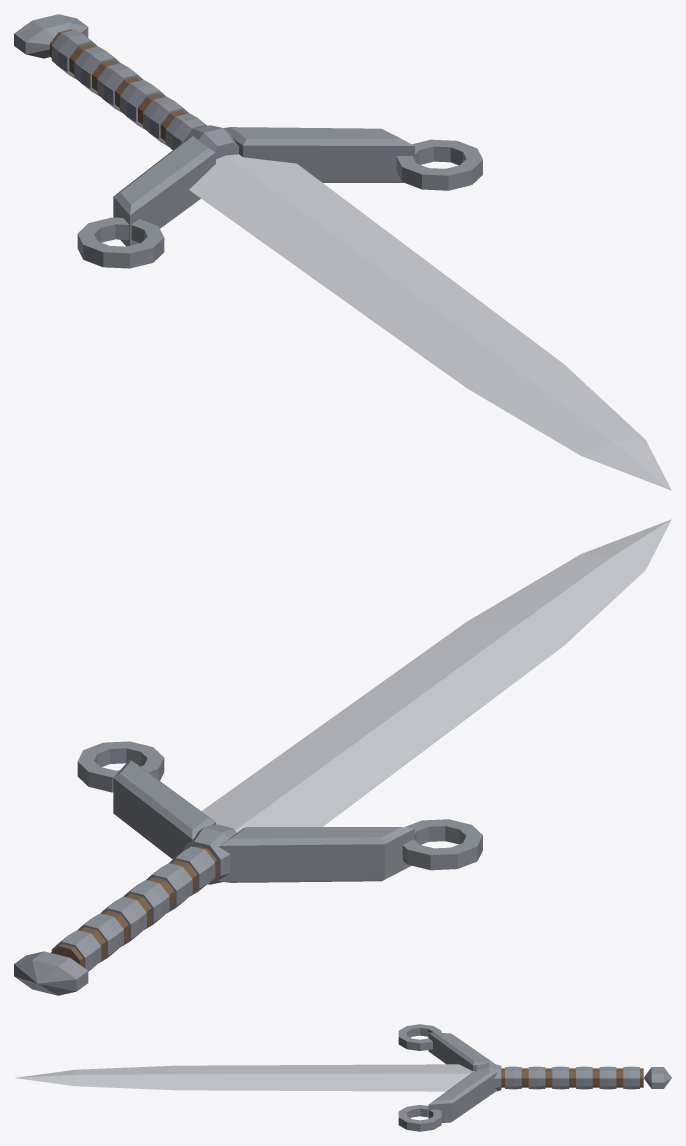
Rendered from claymore.glb.
3 renders of one model, top to bottom at view 1: azimuth 30°, elevation 25°; view 2: azimuth 150°, elevation 25°; view 3: azimuth 270°, elevation 25°, orthographic. The views are drawn at different scales.
Visible parts, largest first — view 1: claymore; view 2: claymore; view 3: claymore.
Part boxes in pixels (x1=…): claymore: x1=14, y1=14, x2=671, y2=490; claymore: x1=14, y1=519, x2=671, y2=995; claymore: x1=15, y1=1024, x2=671, y2=1131.
Size of the model in its own units: 0.5812 by 0.0702 by 1.62.
